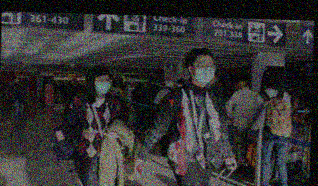with_mask: (193, 61, 215, 85), (94, 76, 110, 96)
without_mask: (20, 74, 26, 79)
